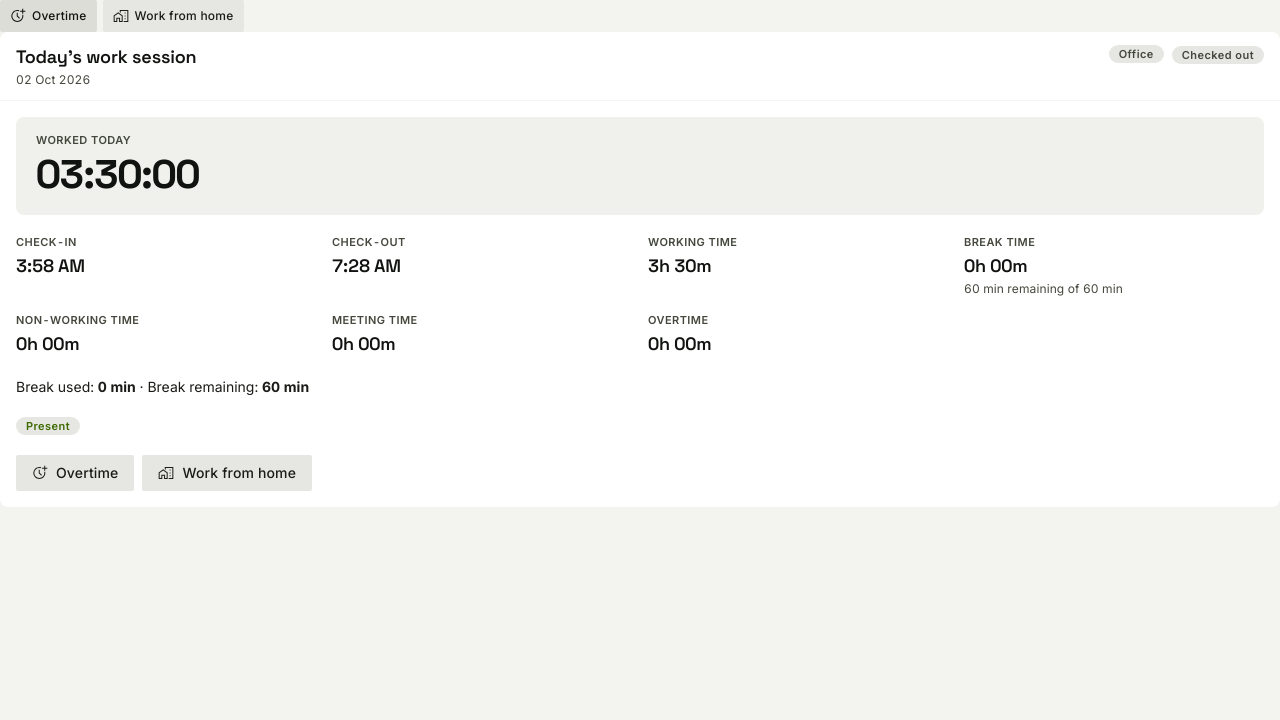
WorkSessionCard › opens the overtime declaration after checkout and only submits a complete one
Click the button "Overtime" below "Present" at [75, 473], box [16,455,134,491]
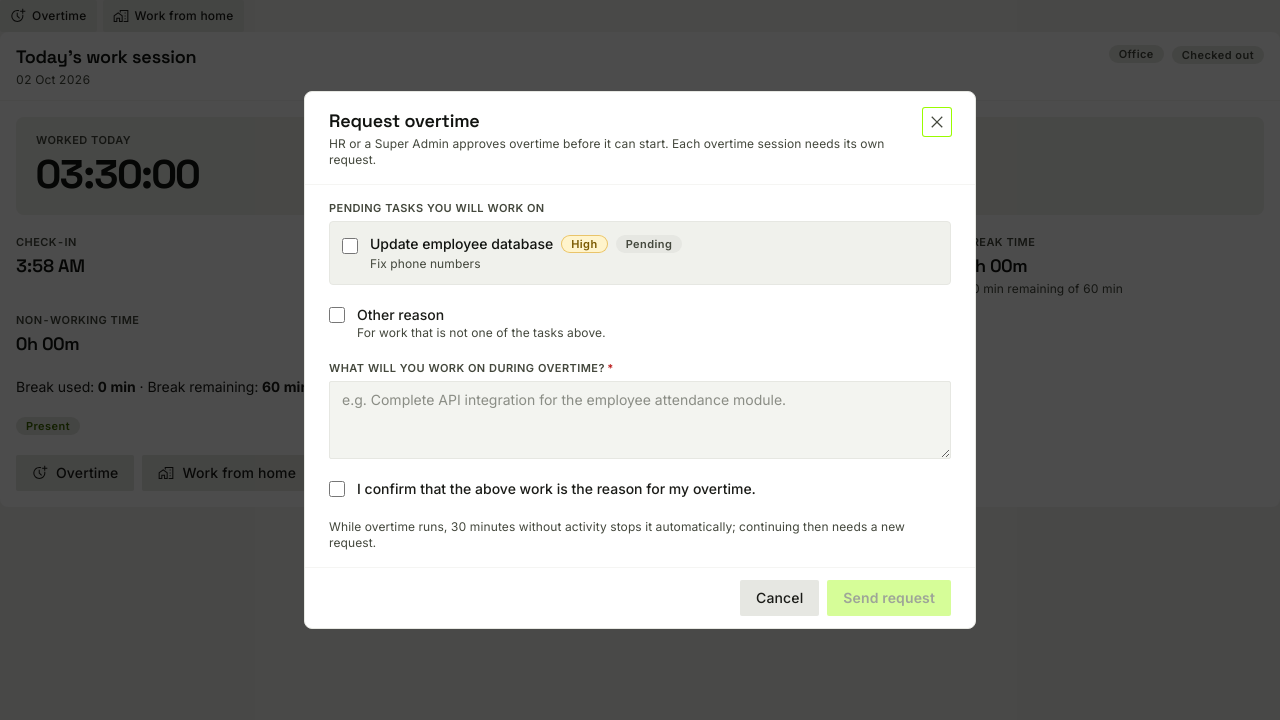
Expected: the button "Send request" is disabled, [827,580,951,616]
Click the checkbox labelled "Update employee database High Pending Fix phone numbers" at [350, 246], box [342,238,358,254]
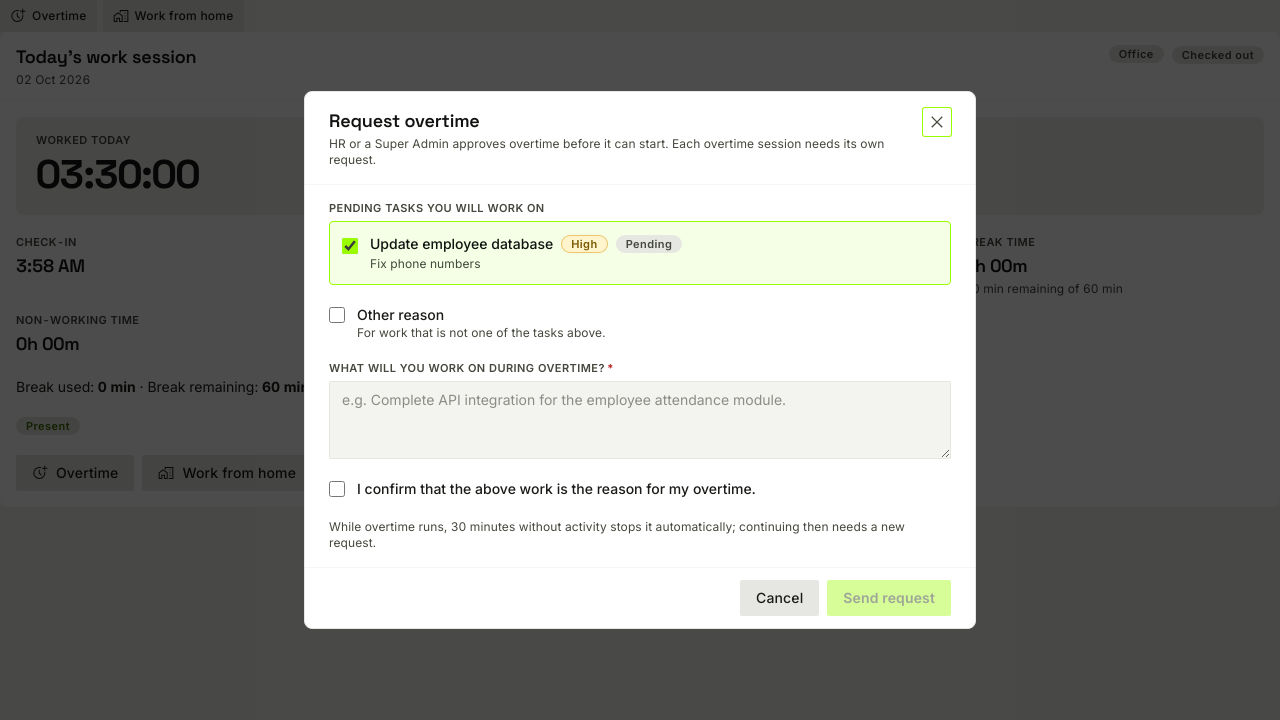
Replace the text in the text box labelled "What will you work on during overtime?*" with "Complete the API integration." at [640, 420], box [329,381,951,459]
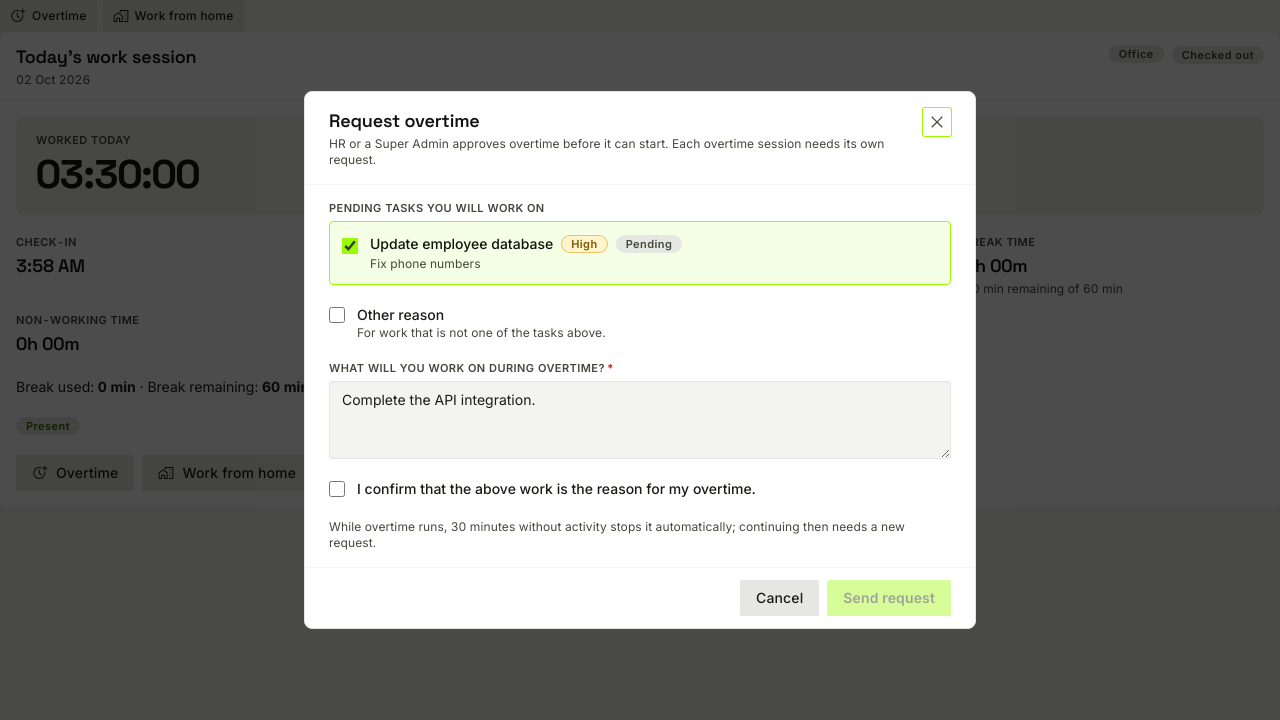
Expected: the button "Send request" is disabled, [827,580,951,616]
Click the checkbox labelled "I confirm that the above work is the reason for my overtime." at [337, 489], box [329,481,345,497]
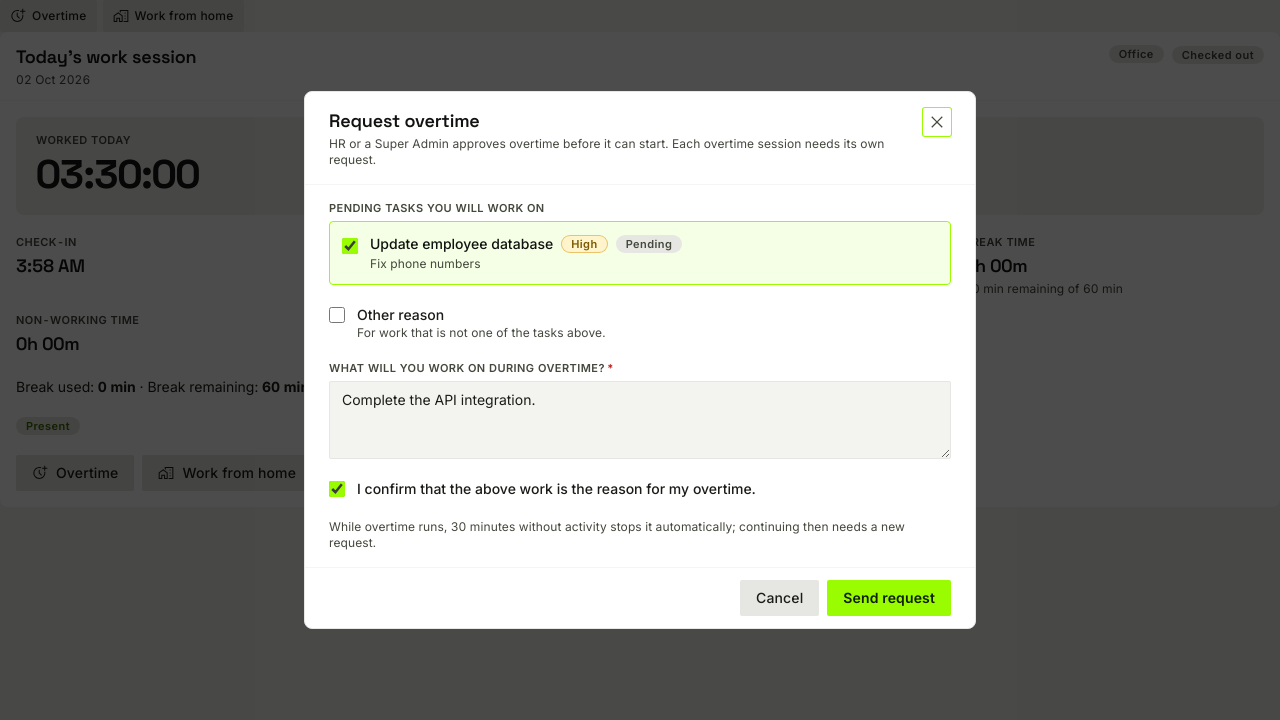
Expected: the button "Send request" is enabled
Click the button "Send request" at [889, 598], box [827,580,951,616]
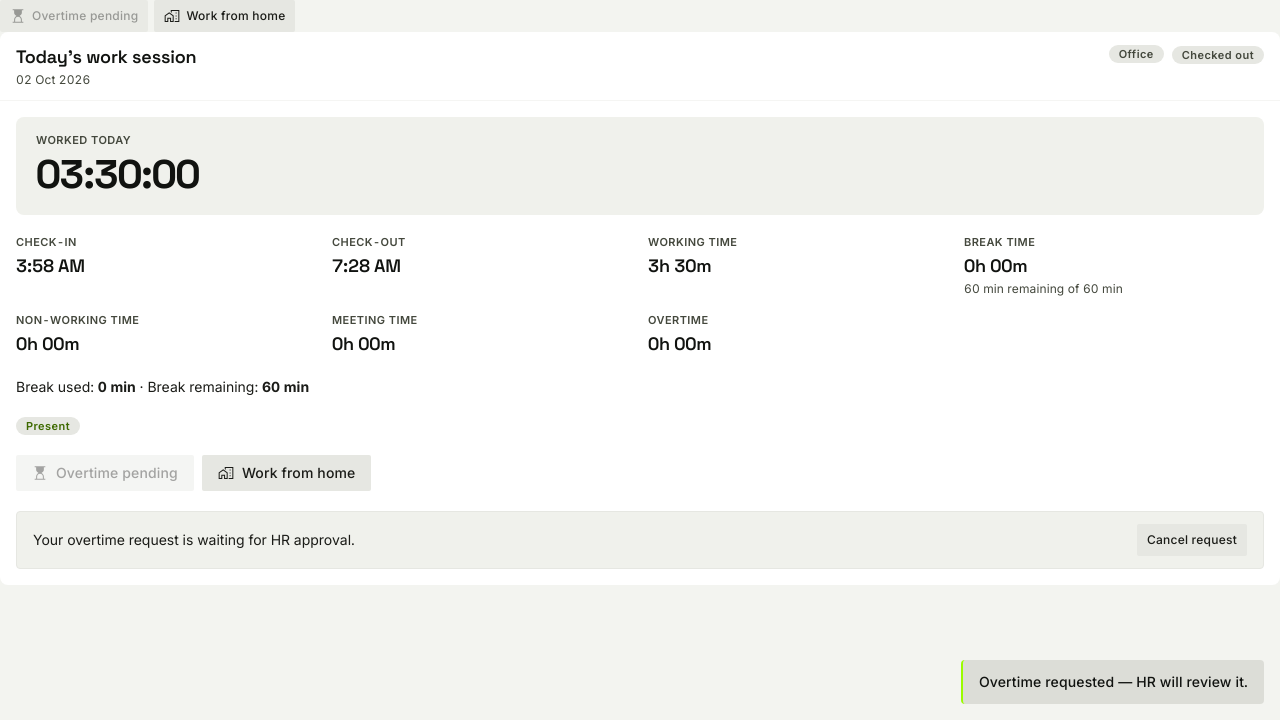
Expected: the text "Your overtime request is waiting for HR approval." is shown, [33,530,355,550]
Expected: the button "Overtime pending" below "Present" is shown, [16,455,194,491]
